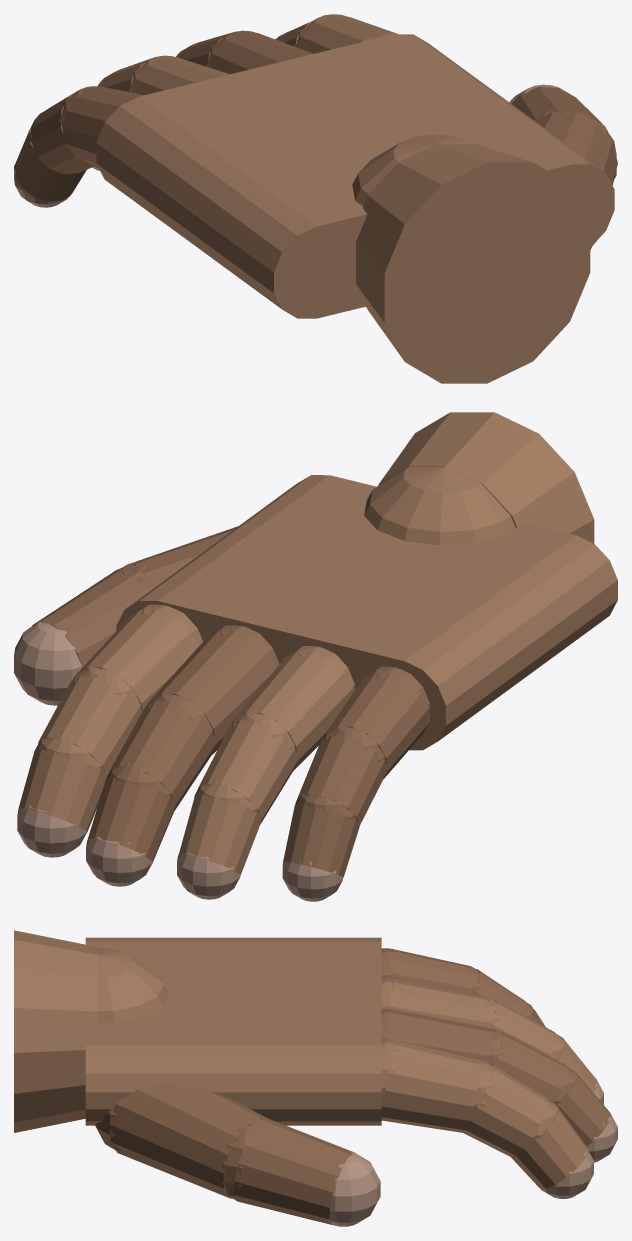
File: hand_open_left.glb
The picture shows the model from 3 angles, top to bottom: view 1: azimuth 30°, elevation 25°; view 2: azimuth 150°, elevation 25°; view 3: azimuth 270°, elevation 25°; orthographic projection. The views are drawn at different scales.
Visible parts, largest first — view 1: hand_open_left; view 2: hand_open_left; view 3: hand_open_left.
Part boxes in pixels (bbox=[...]): hand_open_left: bbox=[14, 14, 617, 383]; hand_open_left: bbox=[14, 412, 617, 901]; hand_open_left: bbox=[14, 930, 617, 1226].
Size of the model in its own units: 0.1053 by 0.0535 by 0.143.
